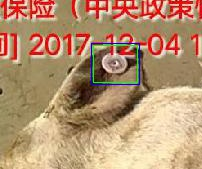text: (93, 45, 137, 82)
